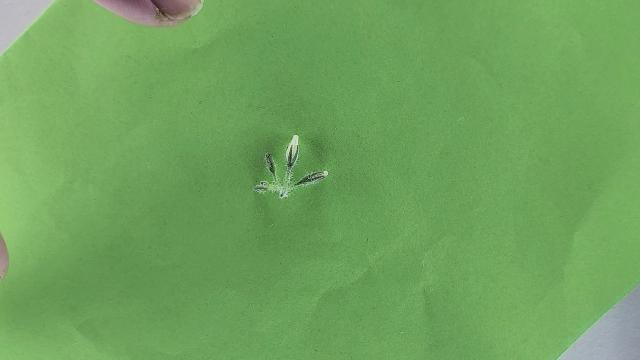Flower Bud: (293, 170, 327, 186), (285, 134, 299, 167), (265, 152, 276, 177), (252, 181, 273, 193)
